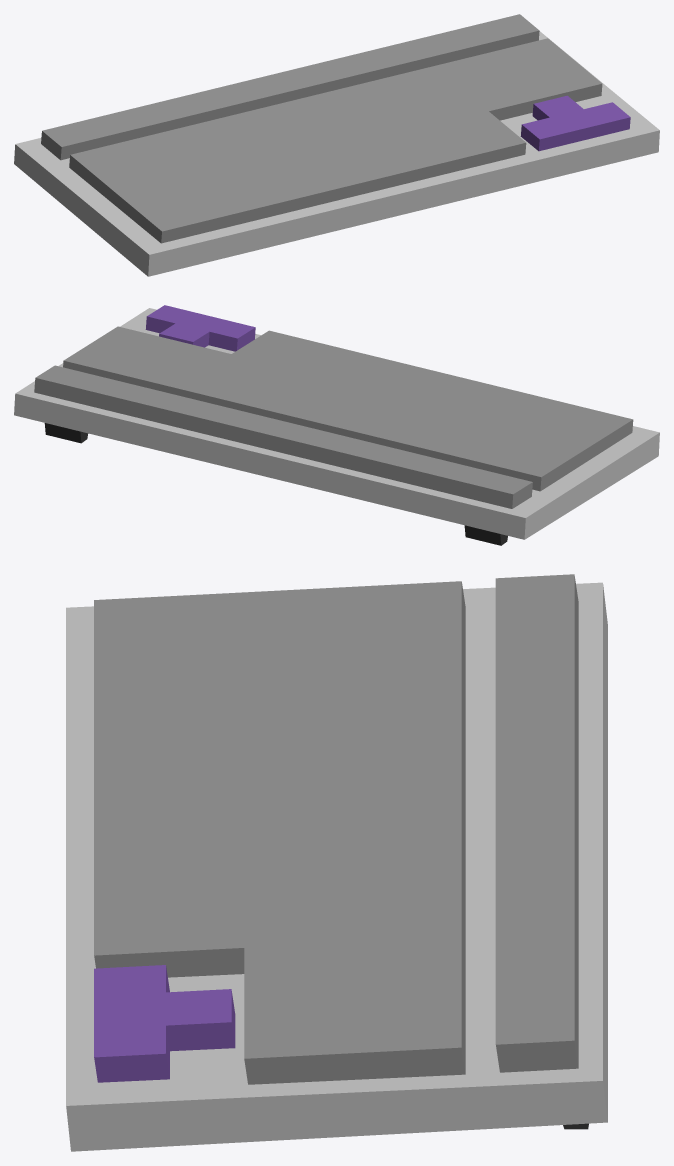
File: keyboard_1.glb
3 views of the same model, one above another, from view 1: azimuth 30°, elevation 25°; view 2: azimuth 150°, elevation 25°; view 3: azimuth 270°, elevation 25° (orthographic). The views are drawn at different scales.
Parts seen in each view (by area): view 1: PC Keyboard 2 Mini; view 2: PC Keyboard 2 Mini; view 3: PC Keyboard 2 Mini.
Boxes of the visible parts, x1=… form: PC Keyboard 2 Mini: x1=14, y1=14, x2=659, y2=276; PC Keyboard 2 Mini: x1=14, y1=305, x2=659, y2=545; PC Keyboard 2 Mini: x1=66, y1=574, x2=607, y2=1151.
Bounding box in the file's own units: 0.3101 × 0.0296 × 0.1425.
1 material, 1 textured.
